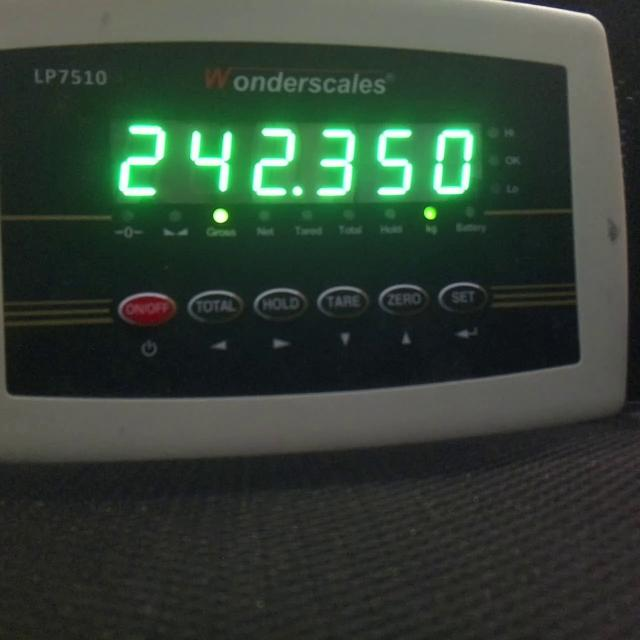.: (290, 184, 303, 197)
0: (433, 128, 473, 195)
2: (118, 124, 166, 197), (252, 127, 297, 197)
3: (316, 120, 356, 206)
4: (190, 128, 232, 194)
5: (374, 127, 414, 196)
